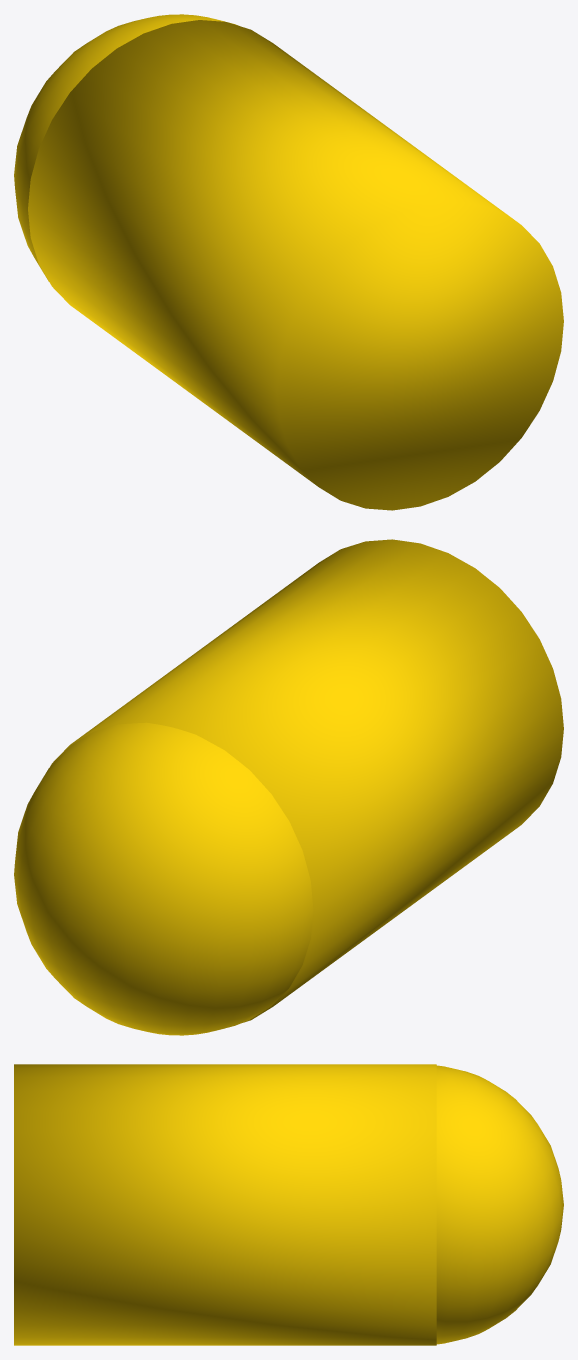
The model's file is Bullet.fbx.
The picture shows the model from 3 angles, top to bottom: view 1: azimuth 30°, elevation 25°; view 2: azimuth 150°, elevation 25°; view 3: azimuth 270°, elevation 25°; orthographic projection. The views are drawn at different scales.
Parts seen in each view (by area): view 1: Sphere; view 2: Sphere; view 3: Sphere.
Part boxes in pixels (x1=…): Sphere: x1=14, y1=14, x2=563, y2=510; Sphere: x1=14, y1=539, x2=563, y2=1035; Sphere: x1=14, y1=1064, x2=563, y2=1345.
Size of the model in its own units: 35.61 by 35.61 by 69.58.
